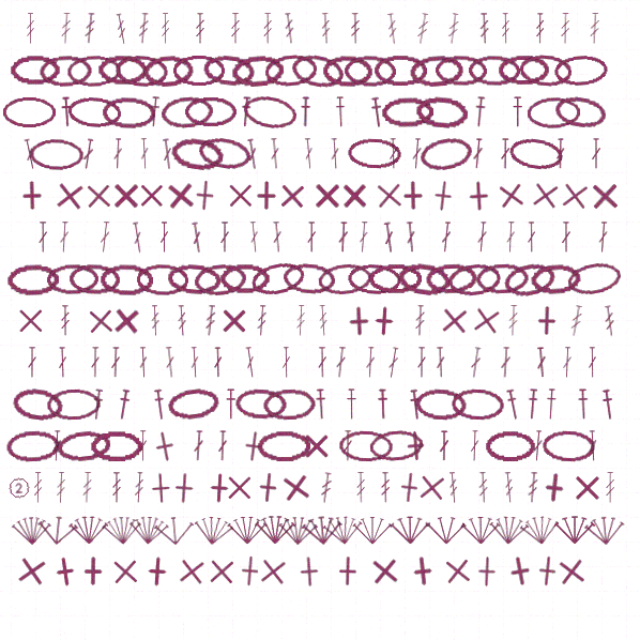chain: (245, 264, 301, 303), (481, 265, 535, 303), (283, 70, 336, 108), (238, 109, 292, 146), (196, 148, 250, 185), (403, 148, 457, 185), (541, 265, 595, 302), (487, 149, 541, 185), (529, 110, 582, 146), (171, 149, 223, 184), (383, 266, 435, 301), (168, 383, 220, 418), (430, 267, 483, 301), (23, 383, 74, 418), (201, 72, 253, 106), (193, 267, 245, 301), (309, 267, 361, 301), (65, 423, 117, 457), (162, 111, 214, 144), (276, 267, 328, 300), (357, 423, 409, 456), (75, 112, 128, 144), (259, 72, 310, 105), (497, 72, 548, 105), (400, 111, 451, 144), (168, 268, 220, 300), (120, 73, 171, 105), (228, 73, 279, 105), (395, 73, 446, 105), (530, 73, 581, 105), (337, 268, 388, 300), (337, 151, 389, 182), (56, 385, 108, 416), (329, 424, 381, 455), (457, 268, 508, 299), (258, 385, 309, 416), (434, 385, 485, 416), (18, 424, 69, 455), (519, 424, 570, 455), (146, 73, 195, 105), (508, 268, 557, 300), (40, 152, 92, 182), (410, 268, 460, 299), (232, 385, 282, 416), (400, 385, 450, 416), (75, 74, 126, 104), (505, 113, 556, 143), (49, 74, 99, 104), (419, 74, 469, 104), (108, 113, 158, 143), (56, 269, 106, 299), (106, 269, 156, 299), (140, 269, 190, 299), (334, 74, 383, 104), (450, 74, 499, 104), (369, 113, 418, 143), (19, 269, 68, 299), (77, 269, 126, 299), (174, 74, 224, 103), (362, 74, 412, 103), (15, 113, 65, 142), (185, 113, 235, 142), (357, 269, 407, 298), (253, 425, 303, 454), (314, 74, 362, 104), (478, 74, 527, 103), (97, 425, 146, 454), (22, 74, 70, 103), (104, 74, 152, 103), (218, 269, 266, 298), (466, 425, 514, 454)
double: (34, 152, 48, 182), (242, 152, 256, 182), (190, 230, 204, 260), (89, 152, 102, 182), (163, 152, 176, 182), (135, 230, 148, 260), (370, 230, 383, 260), (374, 347, 387, 377), (451, 347, 464, 377), (325, 347, 338, 376), (264, 152, 276, 181), (105, 230, 117, 259), (266, 230, 278, 259), (391, 230, 403, 259), (424, 230, 436, 259), (166, 347, 178, 376), (241, 347, 253, 376), (513, 347, 525, 376), (296, 152, 307, 181), (397, 152, 408, 181), (454, 152, 465, 181), (245, 230, 256, 259), (328, 230, 339, 259), (347, 230, 358, 259), (458, 230, 469, 259), (571, 230, 582, 259), (419, 347, 430, 376), (480, 347, 491, 376), (193, 425, 204, 454), (510, 425, 521, 454), (118, 152, 128, 181), (143, 152, 153, 181), (321, 152, 331, 181), (480, 152, 490, 181), (565, 152, 575, 181), (48, 230, 58, 259), (68, 230, 78, 259), (218, 230, 228, 259), (299, 230, 309, 259), (485, 230, 495, 259), (537, 230, 547, 259), (38, 347, 48, 376), (97, 347, 107, 376), (116, 347, 126, 376), (142, 347, 152, 376), (190, 347, 200, 376), (309, 347, 319, 376), (354, 347, 364, 376), (402, 347, 412, 376), (538, 347, 548, 376), (61, 425, 71, 454), (216, 425, 226, 454), (333, 425, 343, 454), (423, 425, 433, 454), (562, 425, 572, 454), (376, 152, 385, 181), (532, 152, 541, 181), (162, 230, 171, 259), (505, 230, 514, 259), (67, 347, 76, 376), (212, 347, 221, 376), (276, 347, 285, 376), (562, 347, 571, 376), (142, 425, 151, 454), (452, 425, 461, 454)
fan: (192, 501, 233, 535), (313, 501, 354, 534), (497, 501, 538, 534), (47, 502, 87, 534), (156, 502, 196, 534), (294, 502, 334, 534), (558, 502, 598, 534), (107, 502, 147, 533), (132, 502, 172, 533), (469, 502, 508, 533), (23, 503, 62, 533), (272, 503, 311, 533), (77, 503, 115, 532), (225, 503, 263, 532), (251, 503, 289, 532), (342, 503, 380, 532), (377, 503, 415, 532), (411, 503, 449, 532), (443, 503, 481, 532), (531, 503, 569, 532)
half_double: (484, 386, 500, 416), (121, 386, 136, 416), (358, 113, 372, 143), (97, 386, 111, 416), (155, 386, 169, 416), (394, 386, 408, 416), (574, 386, 588, 416), (151, 113, 164, 142), (236, 113, 249, 142), (455, 113, 468, 142), (504, 386, 517, 415), (69, 113, 81, 142), (325, 113, 337, 142), (307, 386, 319, 415), (522, 386, 534, 415), (552, 386, 564, 415), (293, 113, 304, 142), (491, 113, 502, 142), (223, 386, 234, 415), (336, 386, 347, 415), (365, 386, 376, 415)
noise: (19, 467, 42, 490), (615, 112, 640, 122)
single: (150, 423, 184, 457), (474, 189, 507, 222), (506, 189, 539, 222), (451, 306, 484, 339), (273, 462, 306, 495), (26, 540, 59, 573), (482, 540, 515, 573), (62, 190, 94, 222), (411, 190, 443, 222), (534, 190, 566, 222), (234, 424, 266, 456), (58, 541, 90, 573), (176, 541, 208, 573), (252, 541, 284, 573), (531, 541, 563, 573), (166, 190, 197, 221), (189, 190, 220, 221), (361, 190, 392, 221), (422, 307, 453, 338), (386, 424, 417, 455), (248, 463, 279, 494), (380, 463, 411, 494), (401, 463, 432, 494), (515, 463, 546, 494), (231, 541, 262, 572), (357, 541, 388, 572), (392, 541, 423, 572), (425, 541, 456, 572), (509, 541, 540, 572), (116, 307, 146, 338), (90, 191, 120, 221), (271, 191, 301, 221), (445, 191, 475, 221), (563, 191, 593, 221), (92, 308, 122, 338), (333, 308, 363, 338), (357, 308, 387, 338), (148, 464, 178, 494), (170, 464, 200, 494), (203, 464, 233, 494), (115, 542, 145, 572), (145, 542, 175, 572), (205, 542, 235, 572), (287, 542, 317, 572), (453, 542, 483, 572), (28, 191, 57, 220), (116, 191, 145, 220), (140, 191, 169, 220), (223, 191, 252, 220), (247, 191, 276, 220), (304, 191, 333, 220), (384, 191, 413, 220), (27, 308, 56, 337), (217, 308, 246, 337), (509, 308, 538, 337), (294, 425, 323, 454), (222, 464, 251, 493), (547, 464, 576, 493), (85, 542, 114, 571), (323, 542, 352, 571), (330, 191, 358, 220)
treble: (544, 308, 559, 338), (401, 35, 415, 65), (120, 35, 133, 65), (373, 35, 386, 65), (430, 35, 443, 65), (576, 308, 589, 338), (311, 464, 324, 494), (277, 35, 290, 64), (203, 308, 216, 337), (91, 35, 103, 64), (141, 35, 153, 64), (505, 464, 517, 493), (69, 35, 80, 64), (312, 35, 323, 64), (460, 35, 471, 64), (563, 35, 574, 64), (252, 308, 263, 337), (400, 308, 411, 337), (487, 308, 498, 337), (89, 464, 100, 493), (431, 464, 442, 493), (459, 464, 470, 493), (483, 464, 494, 493), (195, 35, 205, 64), (228, 35, 238, 64), (258, 35, 268, 64), (340, 35, 350, 64), (536, 35, 546, 64), (69, 308, 79, 337), (153, 308, 163, 337), (178, 308, 188, 337), (289, 308, 299, 337), (310, 308, 320, 337), (65, 464, 75, 493), (117, 464, 127, 493), (138, 464, 148, 493), (345, 464, 355, 493), (368, 464, 378, 493), (578, 464, 588, 493), (37, 35, 46, 64), (163, 35, 172, 64), (481, 35, 490, 64), (513, 35, 522, 64), (44, 464, 53, 493)
